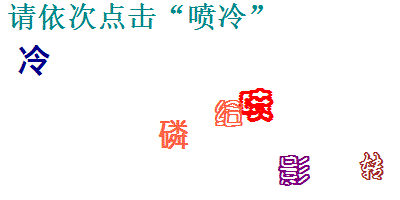text: (238, 87, 275, 123), (276, 153, 311, 188), (16, 43, 50, 77), (157, 119, 189, 151), (213, 99, 243, 128), (358, 150, 384, 182)
